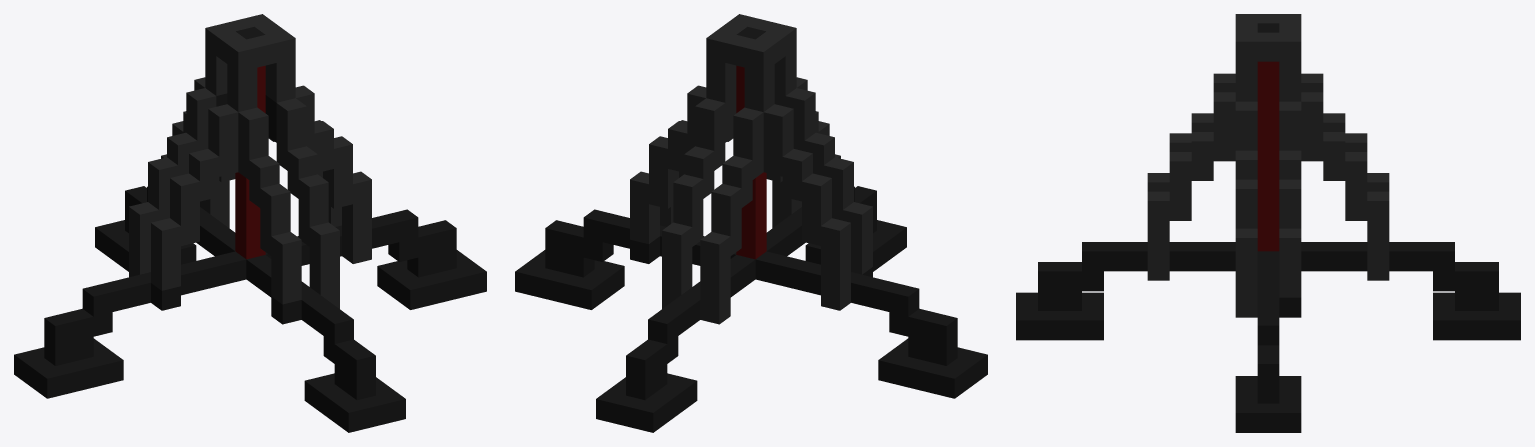
Rendered from Geschuetz Stativ.obj.
3 views of the same model, side by side, from view 1: azimuth 30°, elevation 25°; view 2: azimuth 150°, elevation 25°; view 3: azimuth 270°, elevation 25° (orthographic).
Bounding box in the file's own units: 2.3 × 1.5 × 2.3.
Materials: 1 (1 with a texture image).
